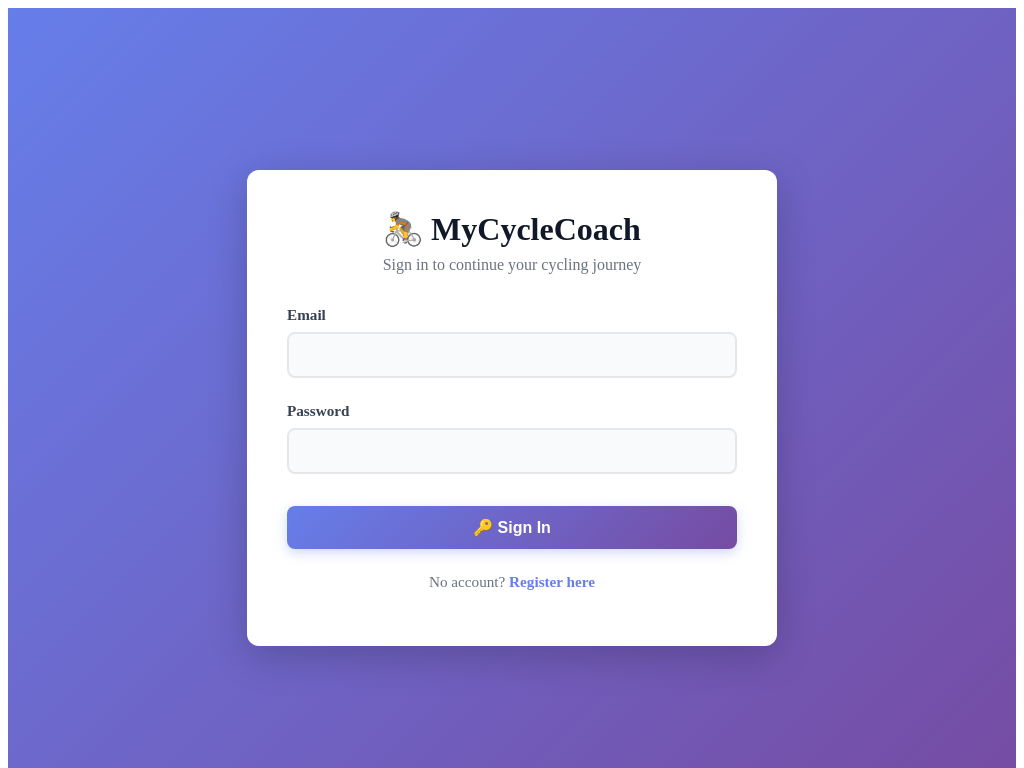
LoginPage Component › shows validation error when password is empty
Type "test@example.com" into the field at (512, 355), box [287,332,737,378]
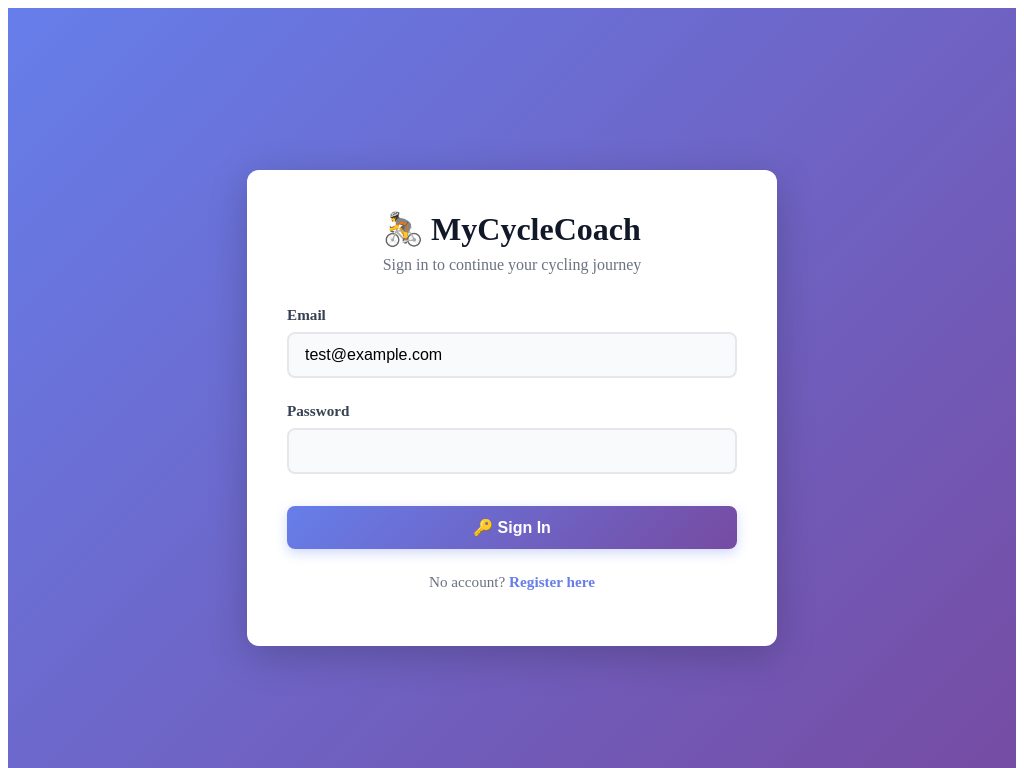
Click the button "🔑 Sign In" at (512, 527), box [287,506,737,549]
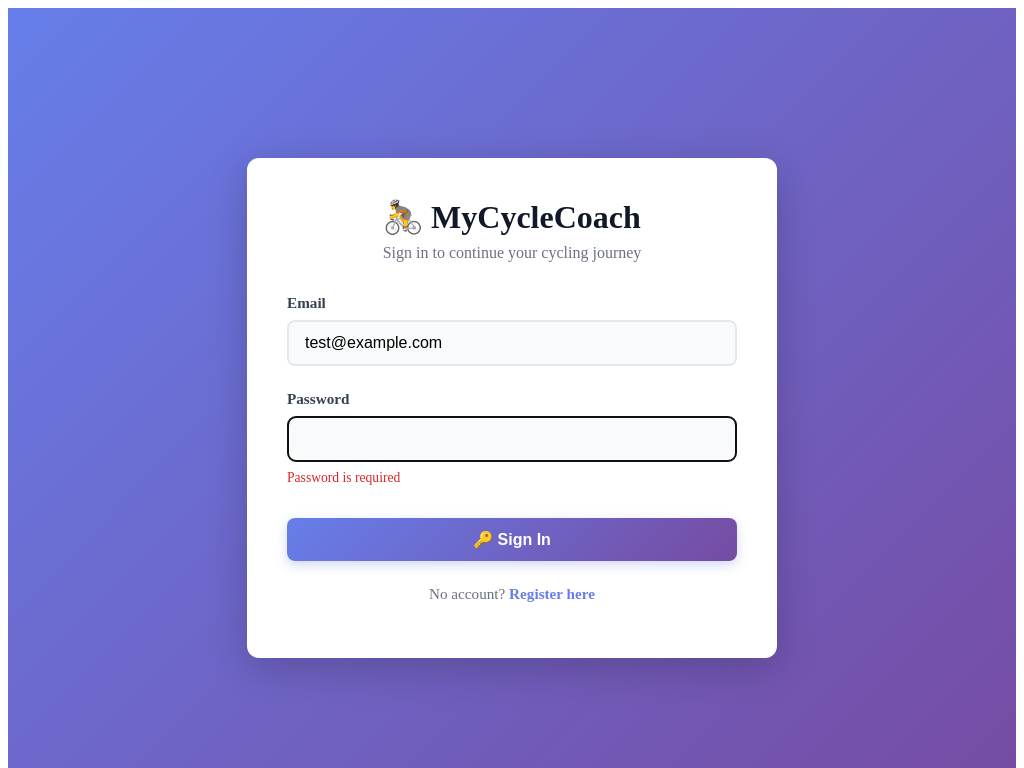
Check: the text "Password is required" is shown, box [287,470,400,485]
